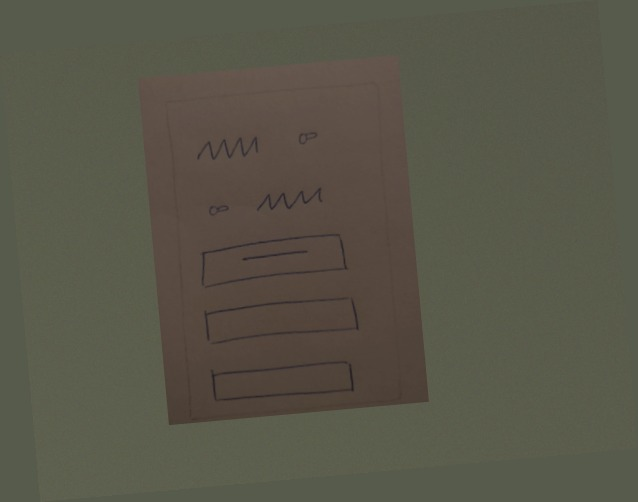button: (193, 227, 356, 291)
switch: (199, 195, 235, 223), (290, 126, 327, 152)
text: (187, 127, 272, 169), (248, 181, 331, 216)
text_input: (200, 289, 369, 354), (206, 352, 359, 410)
